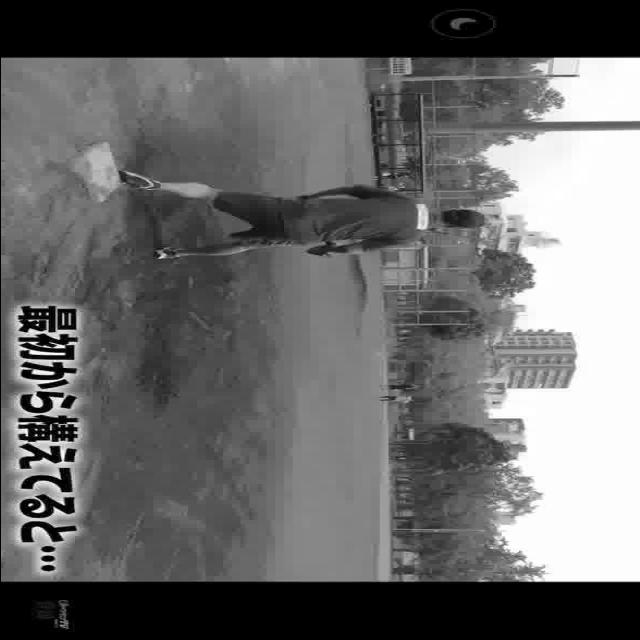base: (68, 142, 124, 202)
baseball_glove: (304, 239, 344, 263)
shoe: (118, 172, 160, 188), (145, 246, 181, 262)
